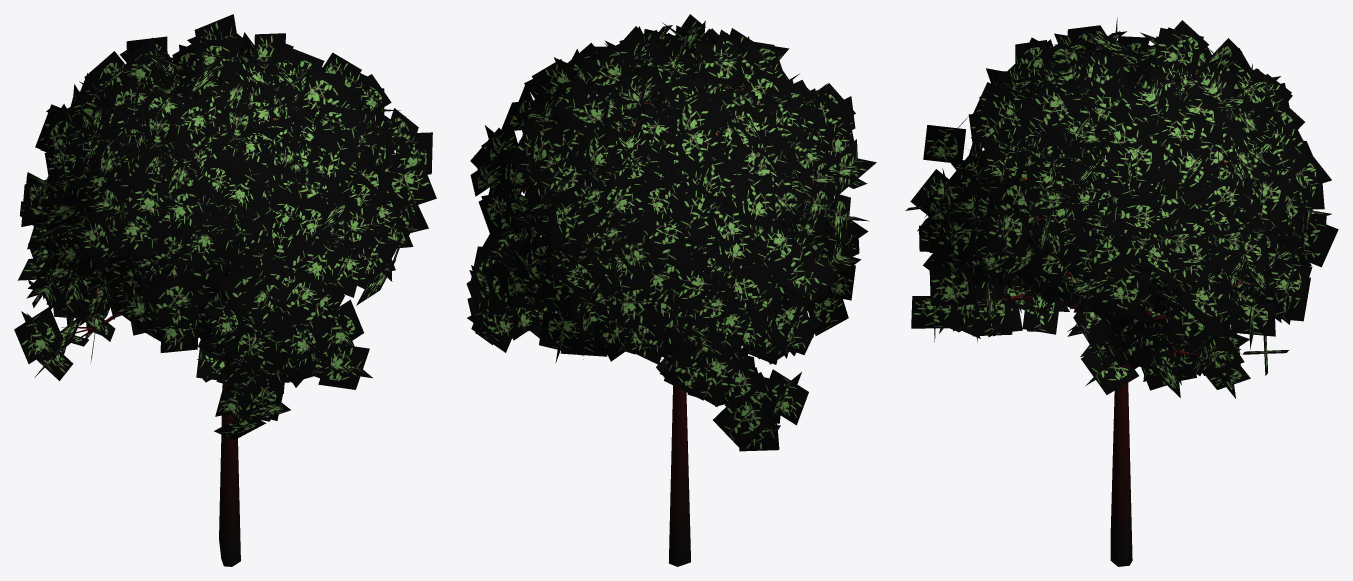
The model's file is Tree_GardenHornbeamB.fbx.
3 views of the same model, side by side, from view 1: azimuth 30°, elevation 25°; view 2: azimuth 150°, elevation 25°; view 3: azimuth 270°, elevation 25° (orthographic).
Visible parts, largest first — view 1: GardenHornbeamB_LOD0; view 2: GardenHornbeamB_LOD0; view 3: GardenHornbeamB_LOD0.
Boxes of the visible parts, left/top/right/bottom form: GardenHornbeamB_LOD0: left=14, top=14, right=436, bottom=566; GardenHornbeamB_LOD0: left=466, top=14, right=876, bottom=566; GardenHornbeamB_LOD0: left=905, top=17, right=1338, bottom=566.
Size of what is drawn, in the model's own units: 7.06 by 9.61 by 7.24.
